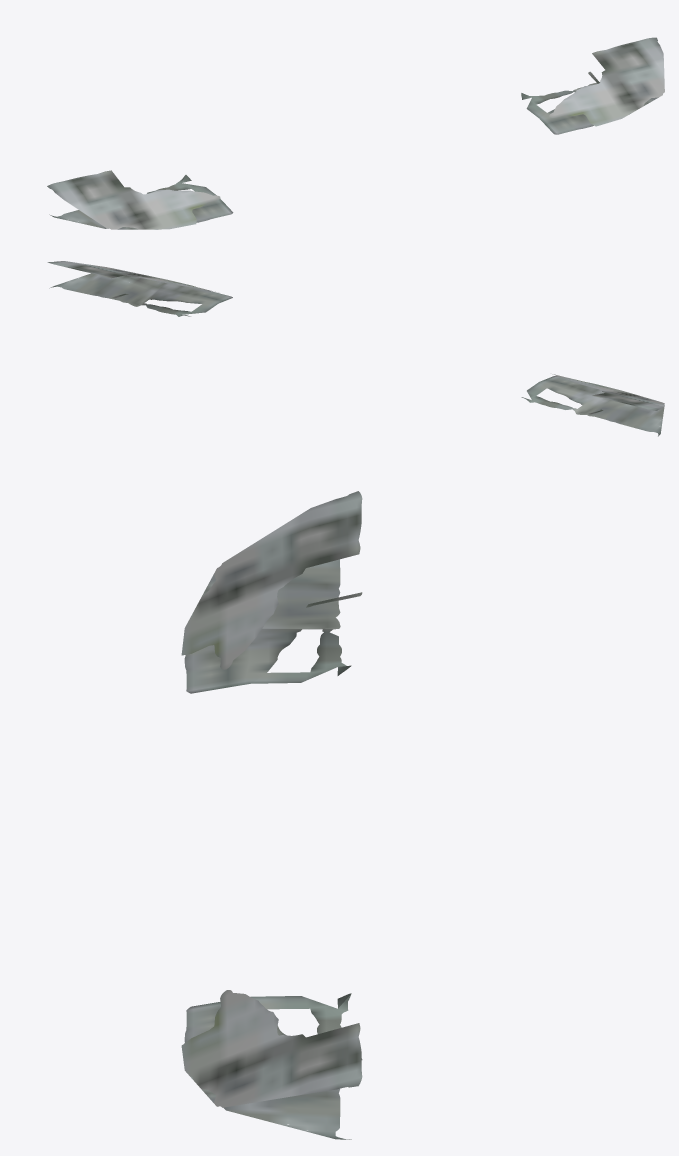
Rendered from kse_firespray_struct_s01_l2.fbx.
The picture shows the model from 3 angles, top to bottom: view 1: azimuth 30°, elevation 25°; view 2: azimuth 150°, elevation 25°; view 3: azimuth 270°, elevation 25°; orthographic projection. The views are drawn at different scales.
Parts seen in each view (by area): view 1: mesh_node; view 2: mesh_node; view 3: mesh_node.
Part boxes in pixels (bbox=[...]): mesh_node: bbox=[47, 37, 664, 229]; mesh_node: bbox=[47, 261, 664, 436]; mesh_node: bbox=[181, 491, 362, 1139].
Bounding box in the file's own units: 24.99 × 1.66 × 5.69.
Materials: 1 (1 with a texture image).
